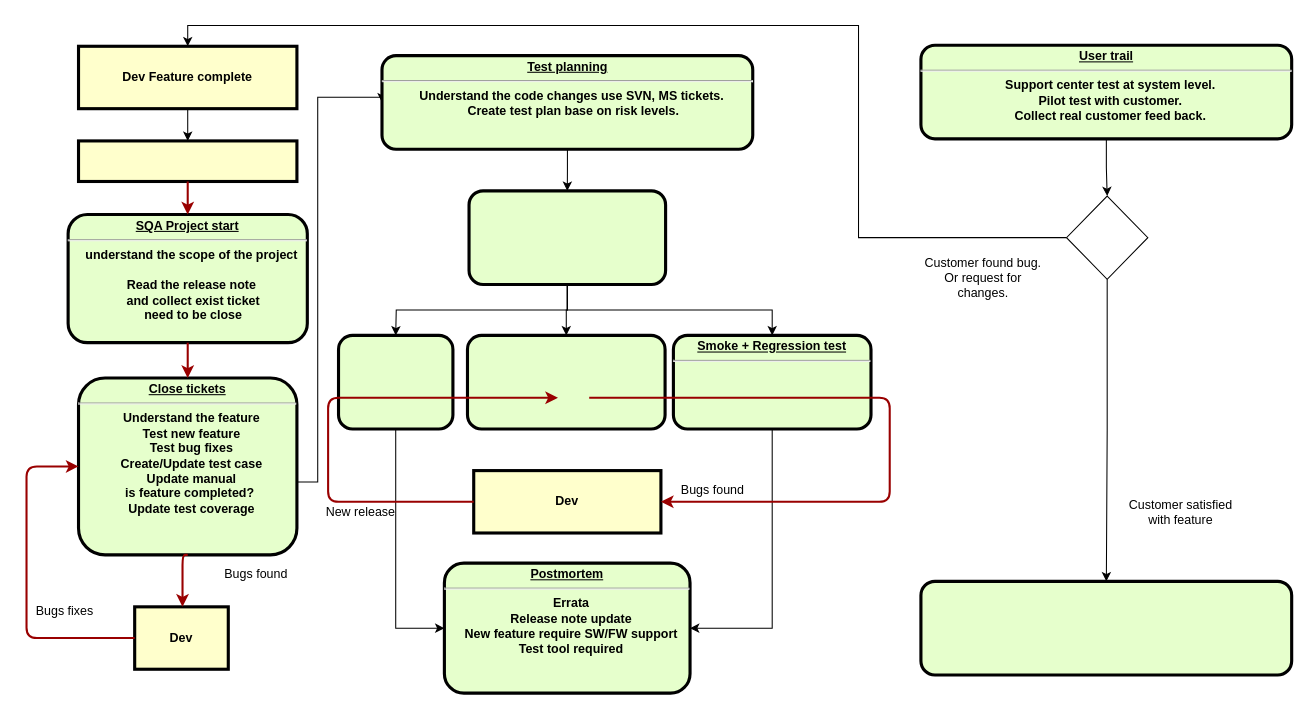
The diagram is 1310 pixels wide and 712 high, and some of its shapes have lost their labels. Here are the shapes that lost their labels. From the top down, the box of each, then its label:
(76, 139, 298, 183): FW/SW Beta ver posted
(467, 189, 667, 285): Project kick off meeting High light area of changes. Select test cases.
(336, 333, 454, 430): Smoke test
(465, 333, 666, 430): Regression test
(919, 579, 1293, 676): Feature close Customer sign off the feature to be complete
